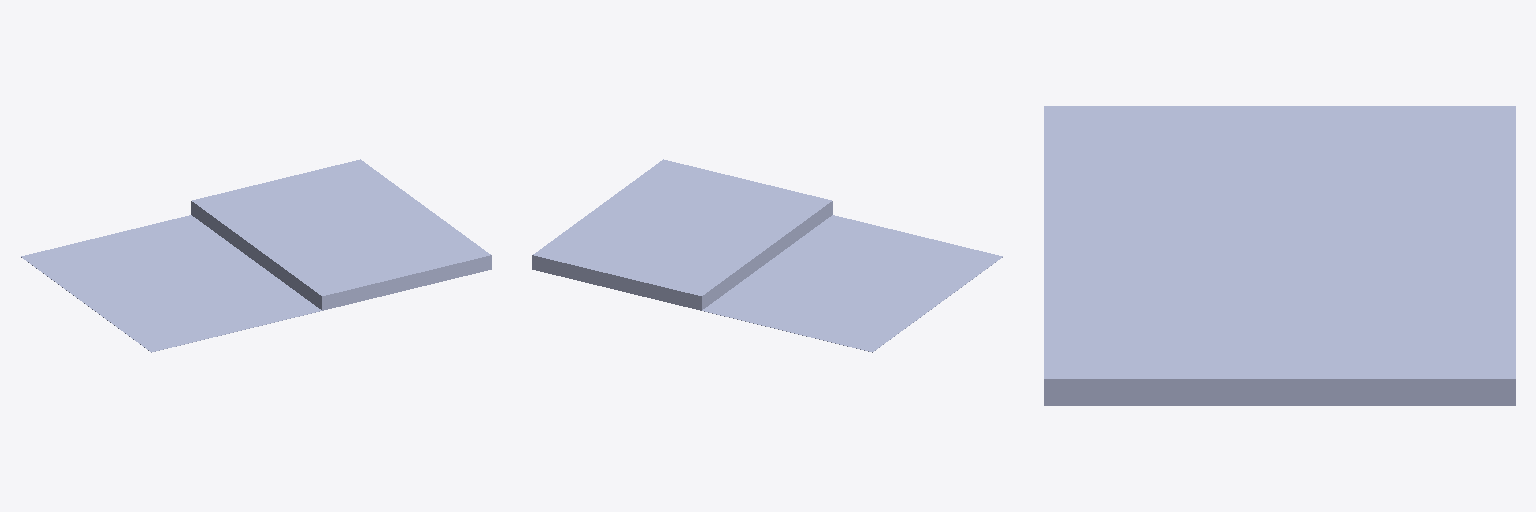
URDF robot description (plane1):
<robot
  name="plane1">
  <link
    name="plane1">
    <inertial>
      <origin
        xyz="3.6445 3.63394429454586E-17 0.30012"
        rpy="0 0 0" />
      <mass
        value="0" />
      <inertia
        ixx="387321.839661543"
        ixy="-5.76709290474389E-11"
        ixz="1667.380731038"
        iyy="258348.519092974"
        iyz="2.39306267155497E-11"
        izz="642712.23185123" />
    </inertial>
    <visual>
      <origin
        xyz="0 0 0"
        rpy="1.5707963267949 0 0" />
      <geometry>
        <mesh
          filename="package://plane1/meshes/plane1.STL" />
      </geometry>
      <material
        name="">
        <color
          rgba="0.79216 0.81961 0.93333 1" />
      </material>
    </visual>
    <collision>
      <origin
        xyz="0 0 0"
        rpy="1.5707963267949 0 0" />
      <geometry>
        <mesh
          filename="package://plane1/meshes/plane1.STL" />
      </geometry>
    </collision>
  </link>
</robot>

--- Render facts (derived) ---
Views: 3 orthographic renders of the robot side by side, from view 1: azimuth 30°, elevation 25°; view 2: azimuth 150°, elevation 25°; view 3: azimuth 270°, elevation 25°.
Model plane1 with 1 links and 0 joints (none), rooted at plane1, posed all joints at 0.
Links seen in each view (by area): view 1: plane1; view 2: plane1; view 3: plane1.
Boxes of the visible links, x1,y1,x2,y2 form: plane1: (21, 159, 491, 352); plane1: (532, 159, 1002, 352); plane1: (1044, 106, 1515, 405).
Bounding box of the posed robot: 15 × 10 × 0.61 m (x, y, z).
1 mesh visuals loaded from 1 distinct referenced files (1 binary STL).